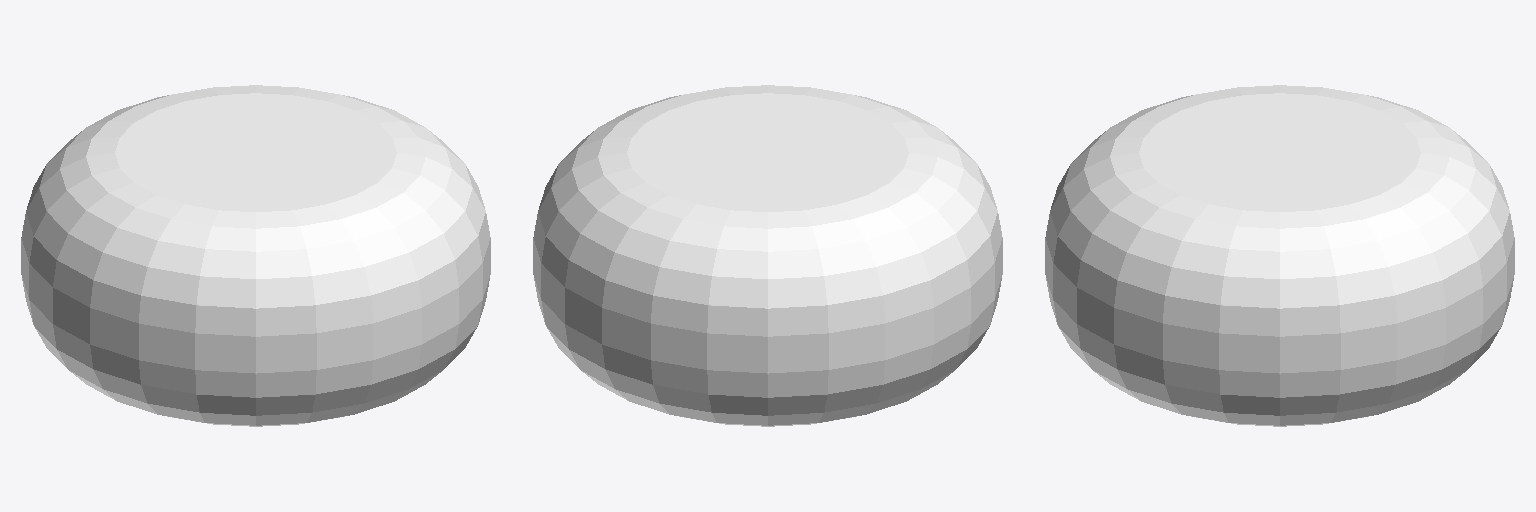
Rendered from Penguin.obj.
The picture shows the model from 3 angles: view 1: azimuth 30°, elevation 25°; view 2: azimuth 150°, elevation 25°; view 3: azimuth 270°, elevation 25°; orthographic projection.
Visible parts, largest first — view 1: ChamferCyl001; view 2: ChamferCyl001; view 3: ChamferCyl001.
Boxes of the visible parts, <box> form: ChamferCyl001: <box>21,85,490,426</box>; ChamferCyl001: <box>533,85,1002,426</box>; ChamferCyl001: <box>1045,85,1514,426</box>.
Bounding box in the file's own units: 1329 × 645 × 1329.